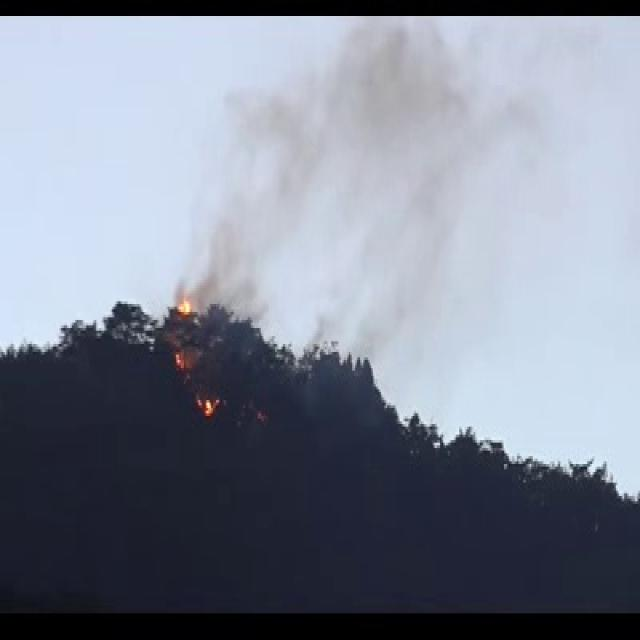smoke: (218, 62, 479, 307)
